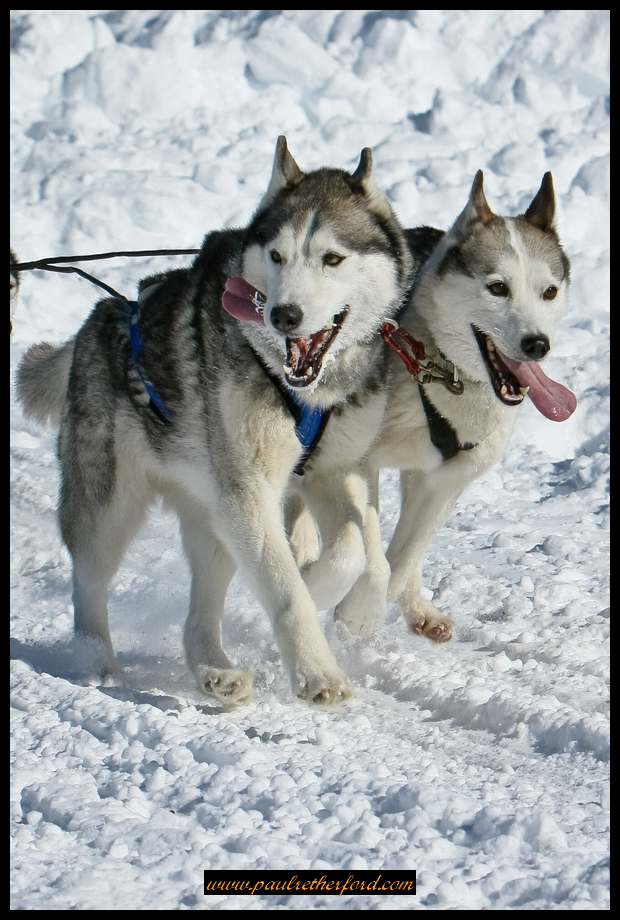dog: (11, 131, 412, 713), (271, 159, 583, 653)
